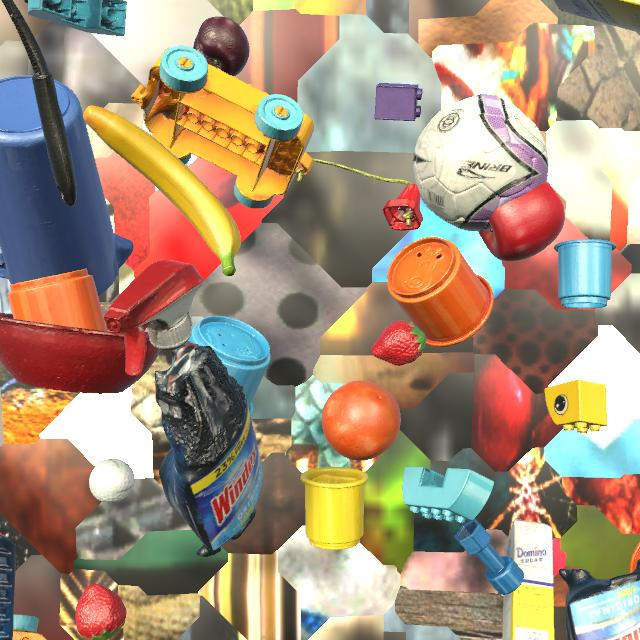ycb_004_sugar_box: (502, 519, 555, 640), (554, 0, 640, 33)
ycb_011_banana: (83, 106, 241, 276)
ycb_012_strawberry: (75, 584, 127, 640), (371, 320, 426, 366)
ycb_013_apple: (478, 181, 565, 262)
ycb_017_orange: (322, 381, 401, 461)
ycb_018_plum: (193, 17, 249, 76)
